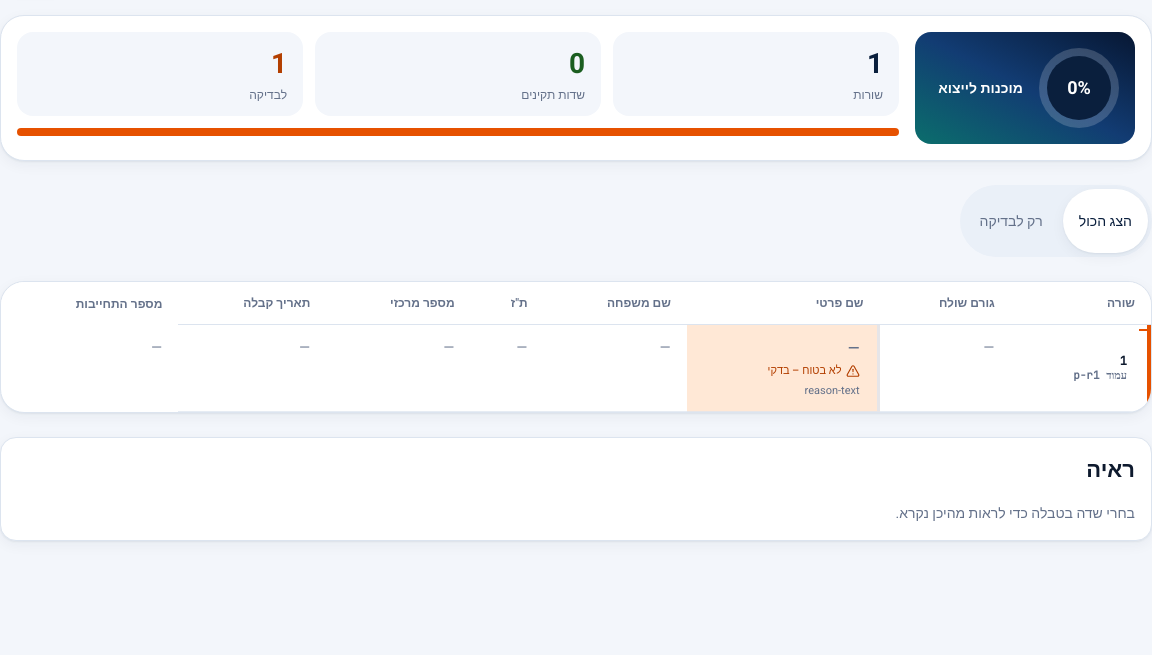
Test case: evidence lens › field_without_box_selected_in_review_does_not_crash
Expected: the table is shown, [1,282,1151,412]
Click the button "— לא בטוח – בדקי reason-text" at (782, 368), box [688,326,876,410]
(page scrolled)
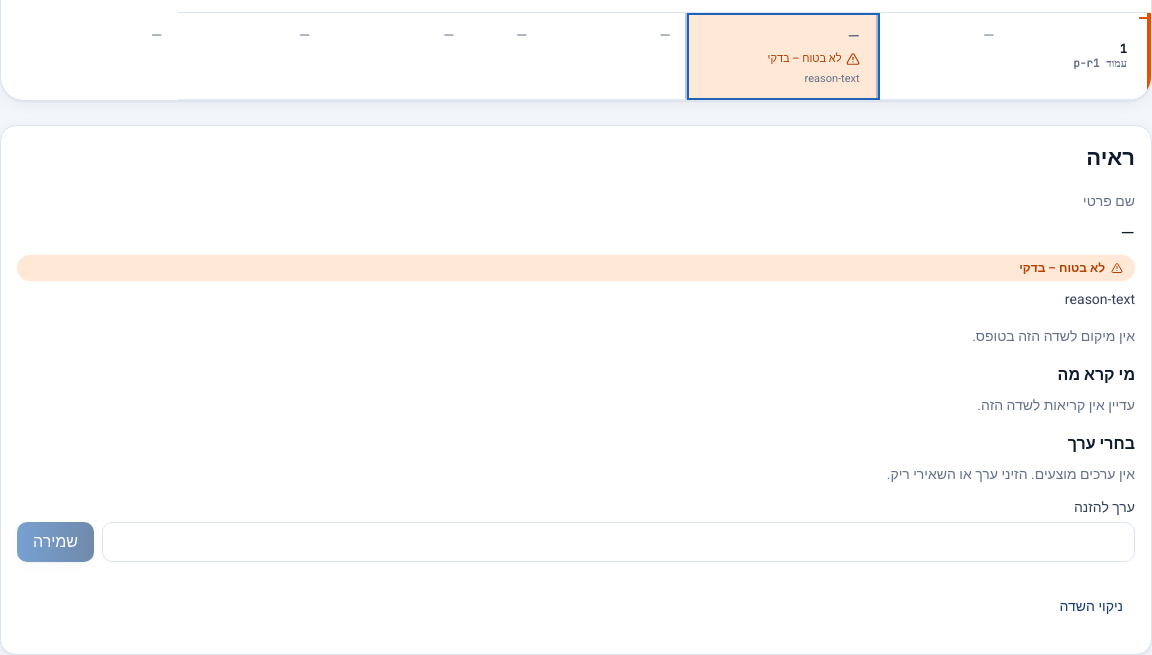
Result: the text "אין מיקום לשדה הזה בטופס." is shown at [972,326,1135,347]
